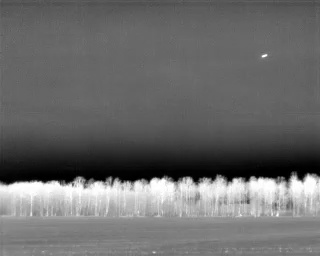DRONE: (258, 50, 271, 62)
